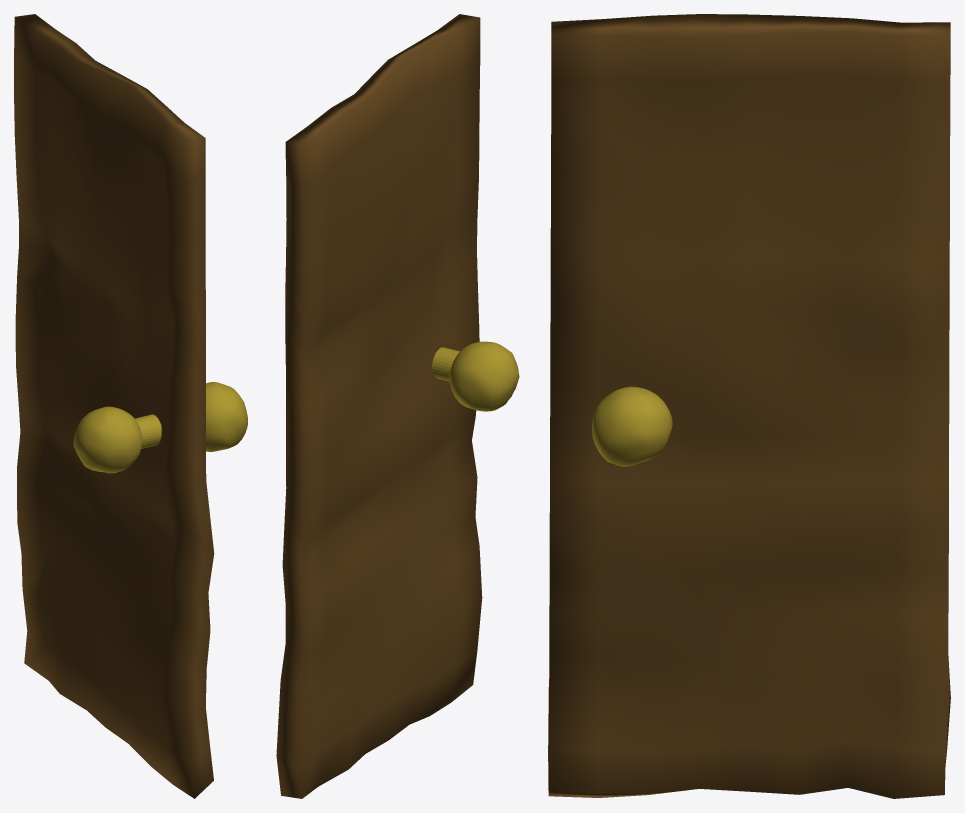
Rendered from dvere.fbx.
The picture shows the model from 3 angles, left to right: view 1: azimuth 30°, elevation 25°; view 2: azimuth 150°, elevation 25°; view 3: azimuth 270°, elevation 25°; orthographic projection. The views are drawn at different scales.
Visible parts, largest first — view 1: Plocha, Koule.001, Koule, Válec.001; view 2: Plocha, Koule.001, Válec.001; view 3: Plocha, Koule.
Part boxes in pixels (x1,y1,x2,y2): Plocha: (14,14,214,798); Koule.001: (73,406,142,473); Koule: (206,382,247,451); Válec.001: (135,414,161,448); Plocha: (276,14,482,798); Koule.001: (449,341,519,411); Válec.001: (432,347,459,381); Plocha: (548,14,950,798); Koule: (592,386,672,466).
Bounding box in the file's own units: 193 × 764 × 356.
